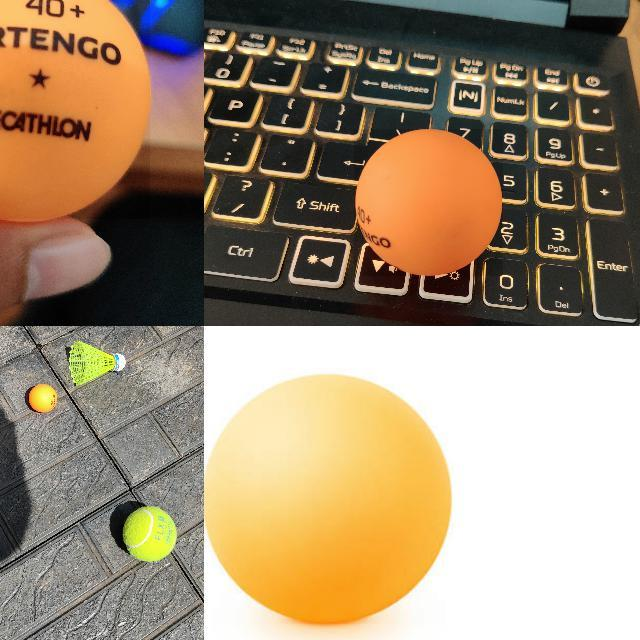ping-pong-ball: (204, 371, 455, 625), (0, 0, 152, 221), (354, 129, 504, 277), (28, 384, 56, 412)
